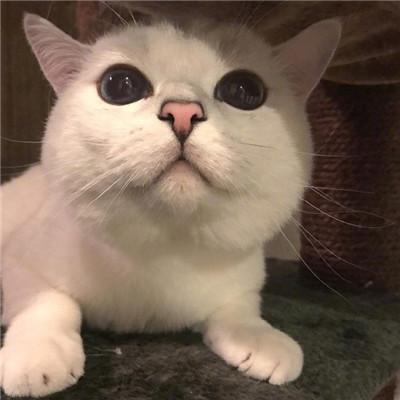cat: (12, 12, 352, 269)
